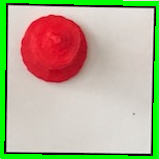Red King: (14, 11, 91, 83)
